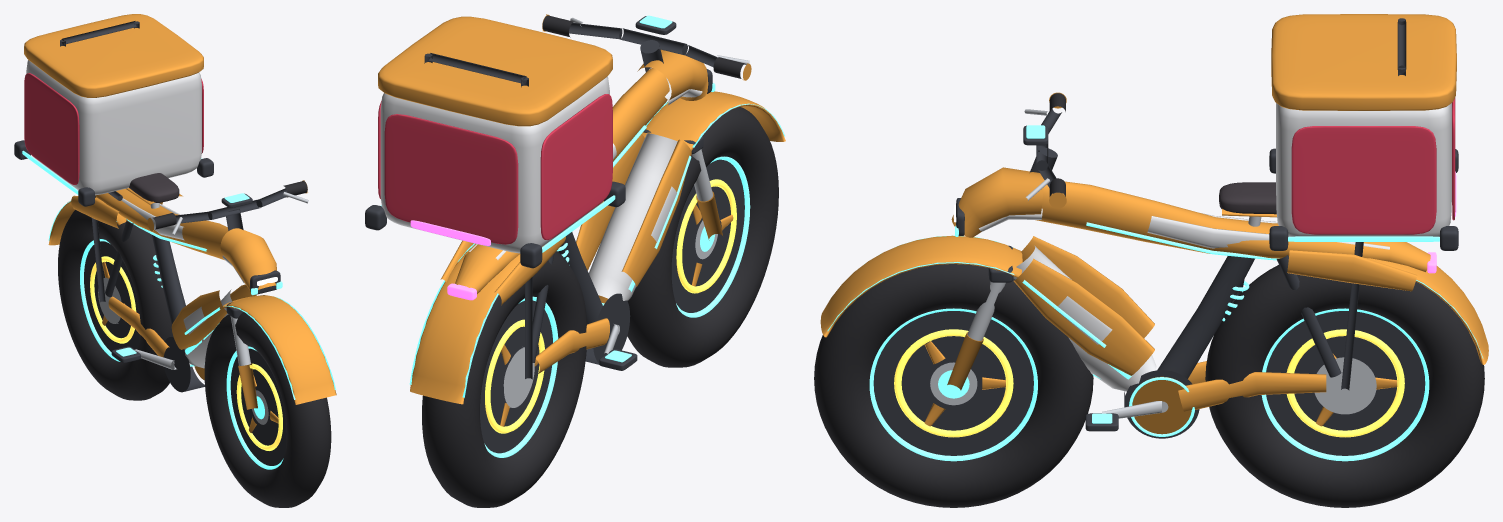
Rendered from ebike.glb.
3 renders of one model, left to right at view 1: azimuth 30°, elevation 25°; view 2: azimuth 150°, elevation 25°; view 3: azimuth 270°, elevation 25°, orthographic. The views are drawn at different scales.
Parts seen in each view (by area): view 1: Frame, Front wheel, Rear wheel, Crank; view 2: Frame, Rear wheel, Front wheel, Crank; view 3: Frame, Front wheel, Rear wheel, Crank.
Part boxes in pixels (left/top/right/bottom): Frame: left=14, top=14, right=336, bottom=409; Front wheel: left=204, top=312, right=331, bottom=507; Rear wheel: left=58, top=209, right=172, bottom=400; Crank: left=111, top=346, right=191, bottom=369; Frame: left=365, top=14, right=785, bottom=404; Rear wheel: left=422, top=251, right=586, bottom=507; Front wheel: left=627, top=107, right=778, bottom=367; Crank: left=599, top=324, right=637, bottom=370; Frame: left=820, top=14, right=1488, bottom=438; Front wheel: left=814, top=264, right=1093, bottom=507; Rear wheel: left=1205, top=265, right=1484, bottom=507; Crank: left=1085, top=377, right=1194, bottom=436.
Size of the model in its own units: 0.762 by 1.62 by 2.14.
